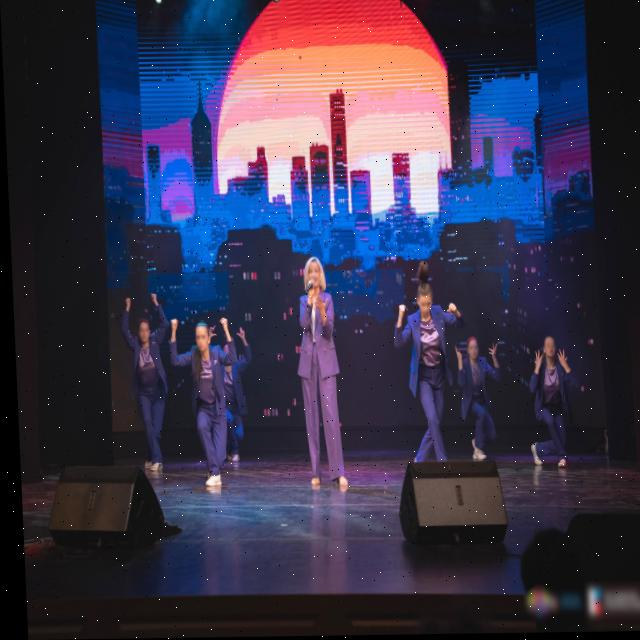Person: (372, 262, 459, 478), (290, 248, 347, 502), (111, 287, 172, 477), (517, 321, 587, 485), (180, 308, 237, 502), (453, 315, 509, 467), (211, 329, 260, 464)
